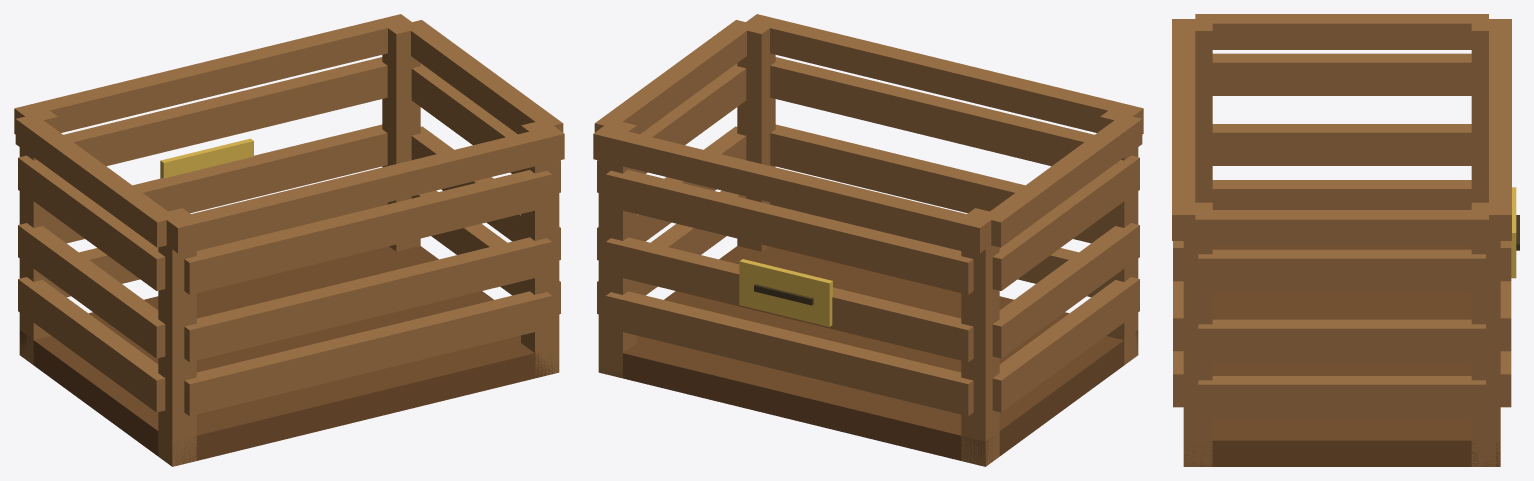
The model's file is HomebaseWoodCrateLarge_LOD00.gltf.
3 renders of one model, left to right at view 1: azimuth 30°, elevation 25°; view 2: azimuth 150°, elevation 25°; view 3: azimuth 270°, elevation 25°, orthographic. The views are drawn at different scales.
Parts seen in each view (by area): view 1: HomebaseWoodCrateLarge_node; view 2: HomebaseWoodCrateLarge_node; view 3: HomebaseWoodCrateLarge_node.
Boxes of the visible parts, x1,y1,x2,y2 form: HomebaseWoodCrateLarge_node: (14, 14, 564, 466); HomebaseWoodCrateLarge_node: (593, 14, 1143, 466); HomebaseWoodCrateLarge_node: (1172, 14, 1519, 466).
Bounding box in the file's own units: 1.26 × 0.72 × 0.9.
